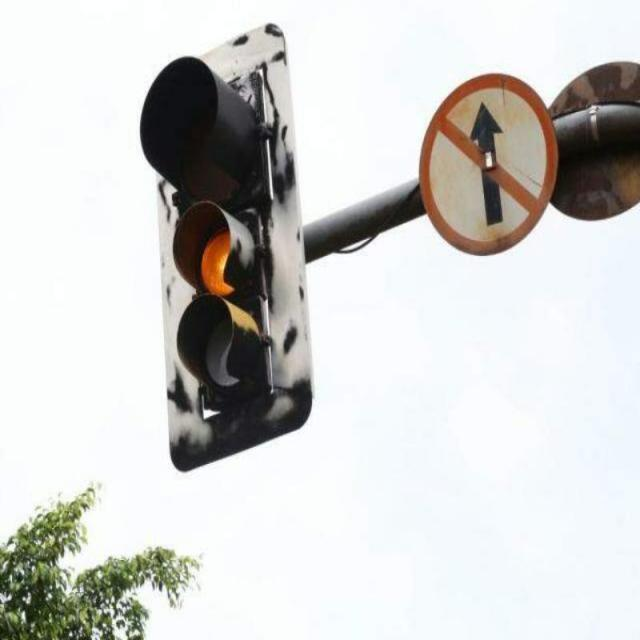yellow_light: (141, 25, 312, 471)
